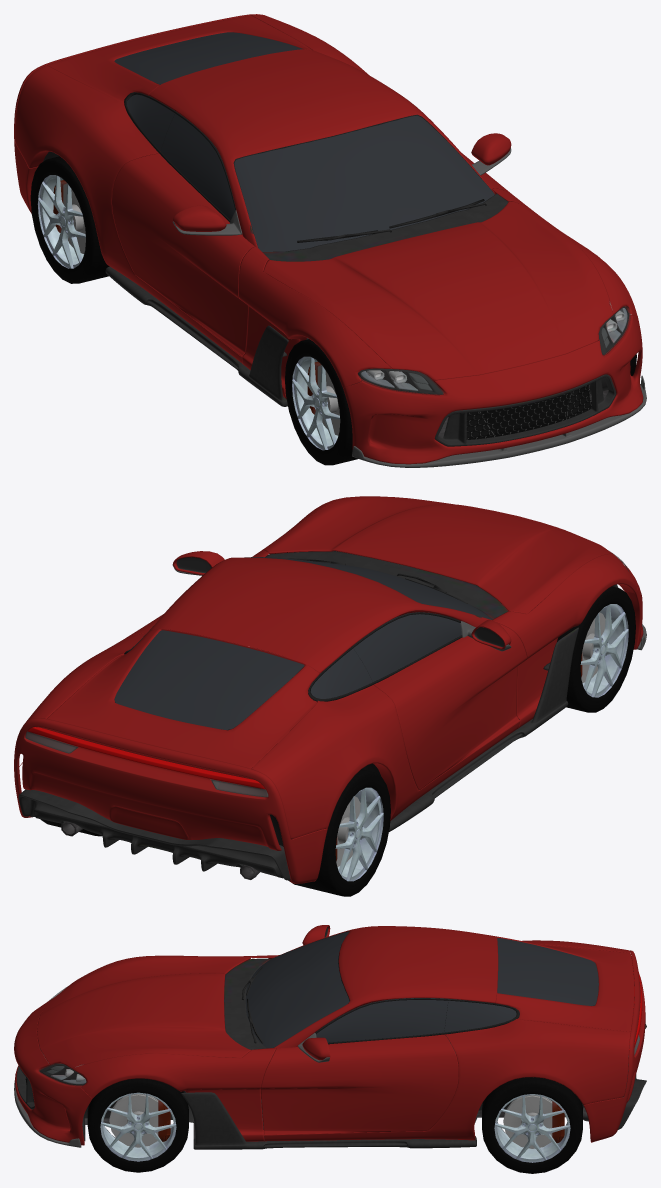
File: generic_sport_coupe_car.glb
The picture shows the model from 3 angles, top to bottom: view 1: azimuth 30°, elevation 25°; view 2: azimuth 150°, elevation 25°; view 3: azimuth 270°, elevation 25°; orthographic projection. The views are drawn at different scales.
Visible parts, largest first — view 1: hood, body, glass-windshield, front-bumper, door.r, side-fender.r, trunk, glass-rear, side-fender-aero.r, window-front.r, hood-grill, front-grille-texture (+15 smaller); view 2: body, rear-bumper, hood, door.r, glass-rear, trunk, side-fender.r, rear-diffusor-v2, window-front.r, side-fender-aero.r, tire-low.003, hood-grill (+12 smaller); view 3: body, hood, door.l, side-fender.l, glass-windshield, trunk, glass-rear, front-bumper, side-fender-aero.l, window-front.l, tire-low.001, tire-low (+15 smaller).
Part boxes in pixels (bbox=[...]): hood: bbox=[263, 201, 613, 380]; body: bbox=[15, 15, 495, 363]; glass-windshield: bbox=[234, 115, 494, 251]; front-bumper: bbox=[343, 314, 643, 464]; door.r: bbox=[111, 153, 254, 357]; side-fender.r: bbox=[238, 246, 391, 398]; trunk: bbox=[47, 15, 313, 102]; glass-rear: bbox=[114, 32, 302, 84]; side-fender-aero.r: bbox=[105, 266, 288, 406]; window-front.r: bbox=[161, 111, 235, 220]; hood-grill: bbox=[262, 193, 508, 261]; front-grille-texture: bbox=[466, 384, 591, 439]; body: bbox=[25, 557, 520, 839]; rear-bumper: bbox=[14, 718, 327, 883]; hood: bbox=[263, 496, 612, 613]; door.r: bbox=[374, 622, 527, 789]; glass-rear: bbox=[114, 630, 304, 729]; trunk: bbox=[47, 628, 319, 768]; side-fender.r: bbox=[492, 553, 637, 728]; rear-diffusor-v2: bbox=[18, 789, 290, 880]; window-front.r: bbox=[353, 612, 461, 681]; side-fender-aero.r: bbox=[389, 627, 578, 831]; tire-low.003: bbox=[288, 769, 390, 896]; hood-grill: bbox=[265, 551, 507, 619]; body: bbox=[260, 926, 630, 1141]; hood: bbox=[37, 955, 250, 1068]; door.l: bbox=[260, 1034, 458, 1135]; side-fender.l: bbox=[72, 1048, 275, 1141]; glass-windshield: bbox=[245, 931, 349, 1048]; trunk: bbox=[495, 936, 634, 1031]; glass-rear: bbox=[497, 938, 598, 1005]; front-bumper: bbox=[14, 1000, 92, 1145]; side-fender-aero.l: bbox=[181, 1092, 476, 1149]; window-front.l: bbox=[316, 998, 448, 1042]; tire-low.001: bbox=[482, 1077, 582, 1173]; tire-low: bbox=[87, 1078, 188, 1172].
Bounding box in the file's own units: 2.27 × 1.35 × 4.73.
17 materials, 5 textured.
